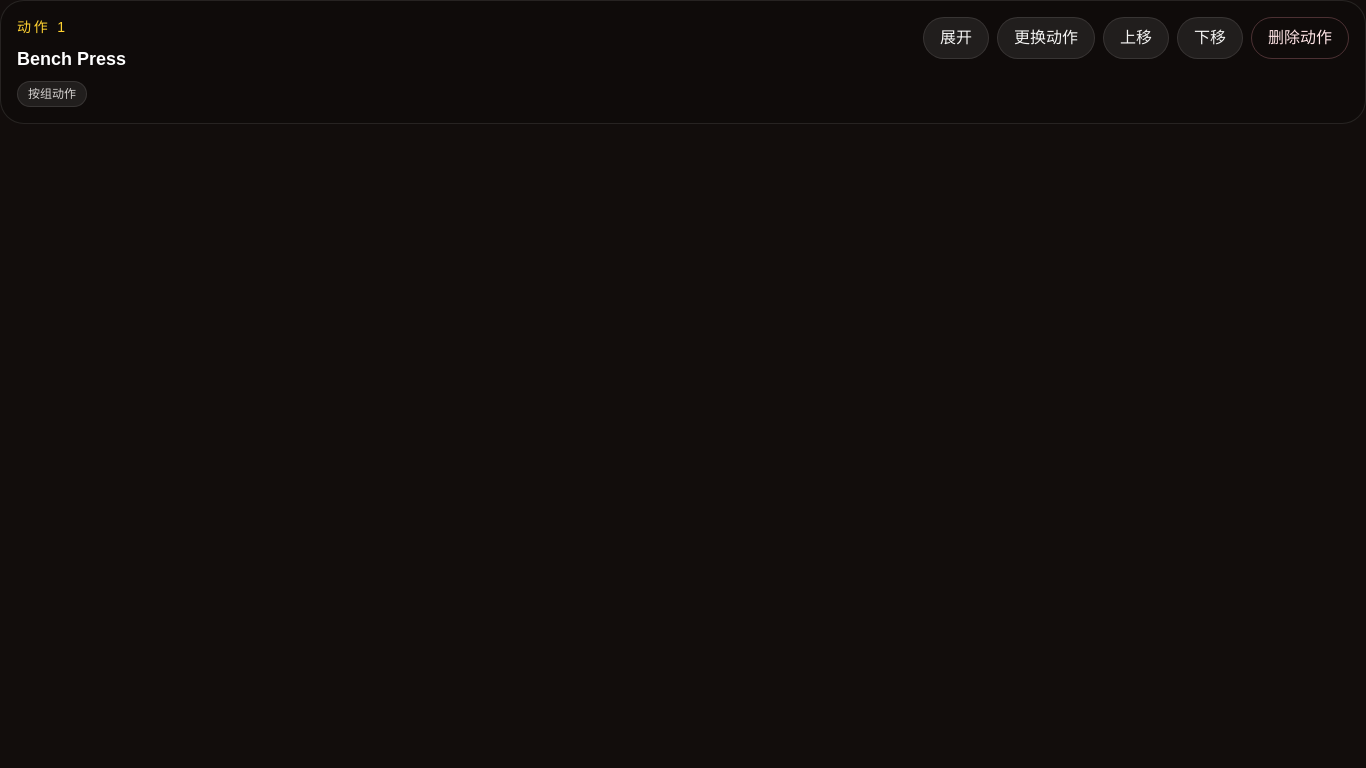
Test: ExerciseStructureEditor › expands to reveal the note editor and items, then collapses to hide them
Click the button "展开": point(956, 38) [923,17,989,59]
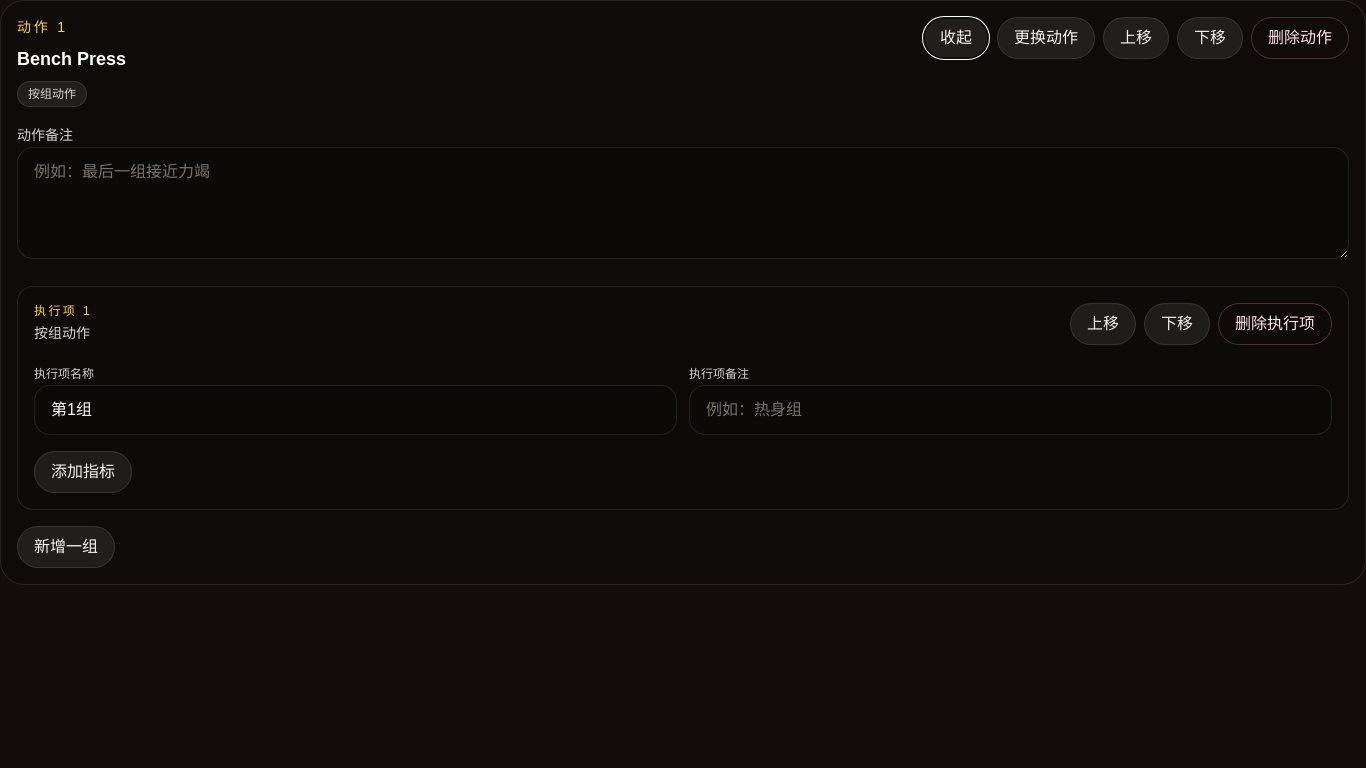
Check: the text box with placeholder "例如：最后一组接近力竭" is shown, box [17,147,1349,259]
Check: the text "执行项名称" is shown, box [34,367,94,381]
Check: the button "收起" is expanded
Click the button "收起": point(956, 38) [923,17,989,59]
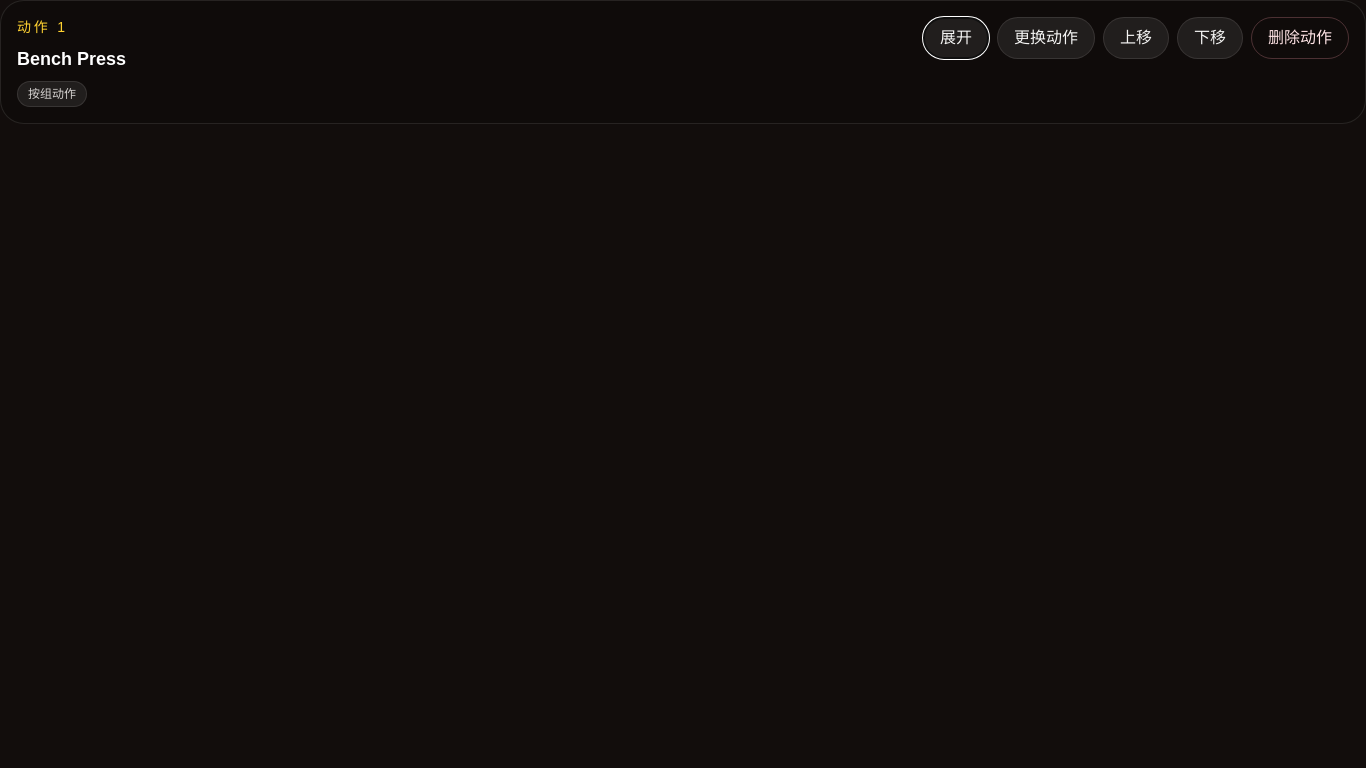
Check: the text box with placeholder "例如：最后一组接近力竭" is gone
Check: the text "执行项名称" is gone
